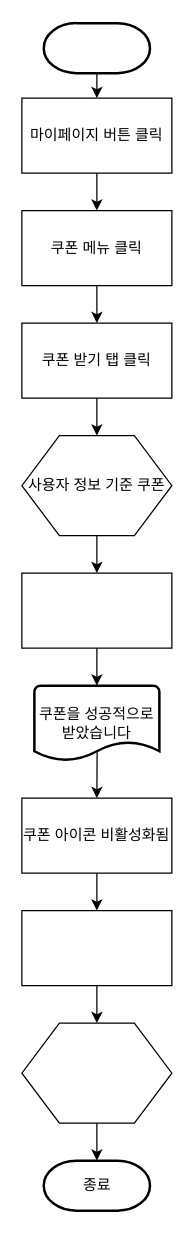
This 194x1233 diagram has some shape labels left out. Here are the shapes that lost their labels. From the top down, the box of each, then its label:
(42, 21, 151, 74): 시작
(21, 572, 172, 648): 쿠폰 아이콘 클릭해 쿠폰 다운로드
(21, 909, 172, 986): 받은 쿠폰 탭으로 이동
(21, 1022, 172, 1123): 다운로드 받은 쿠폰들
